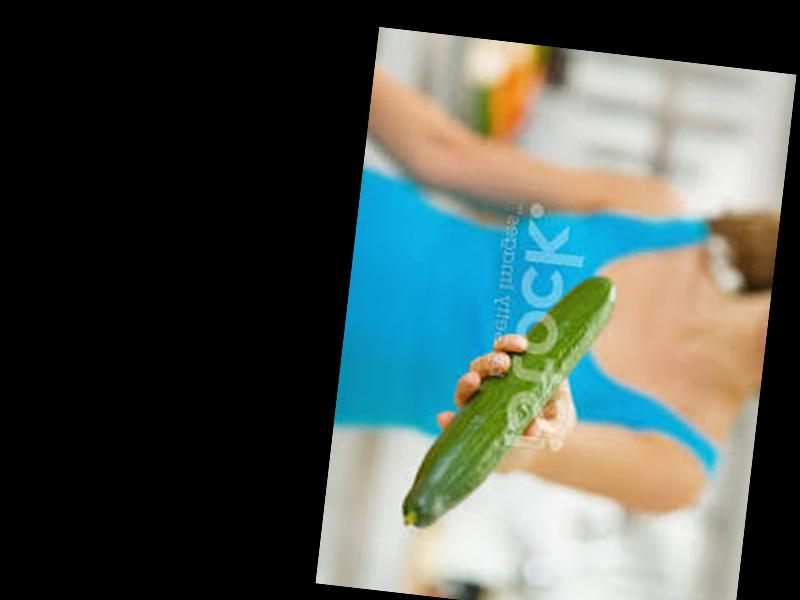Cucumber: (399, 256, 617, 546)
